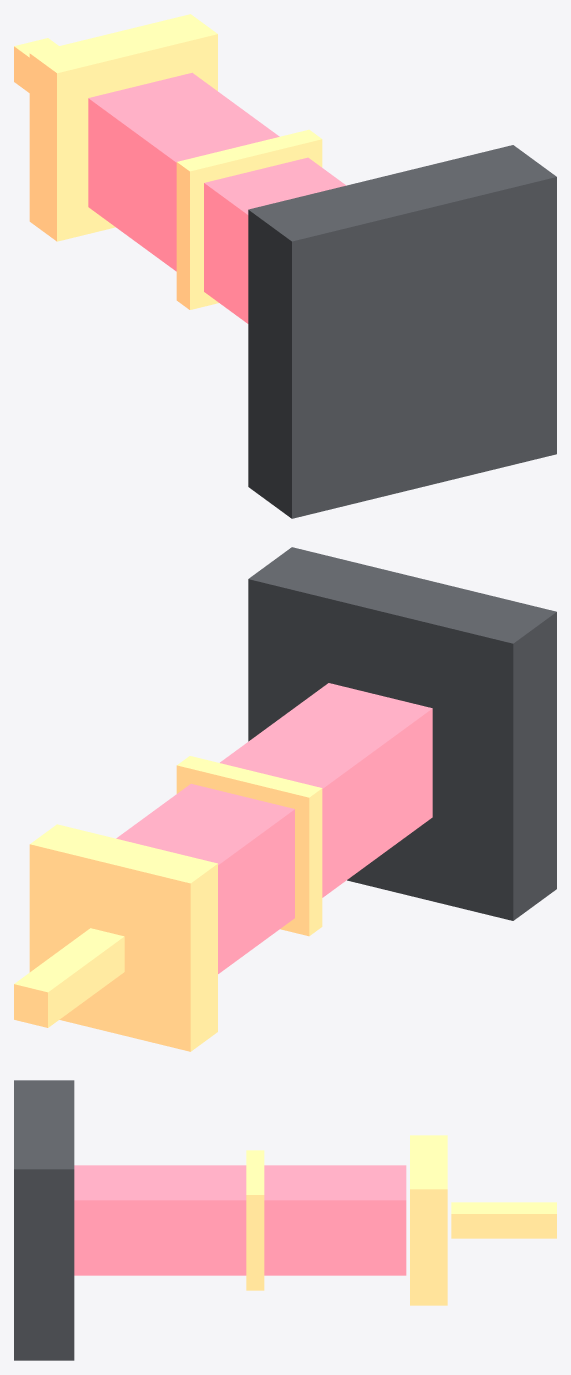
File: interact_hazard_pylon.glb
3 renders of one model, top to bottom at view 1: azimuth 30°, elevation 25°; view 2: azimuth 150°, elevation 25°; view 3: azimuth 270°, elevation 25°, orthographic. The views are drawn at different scales.
Visible parts, largest first — view 1: interact_hazard_pylon; view 2: interact_hazard_pylon; view 3: interact_hazard_pylon.
Boxes of the visible parts, box(x1,y1,x2,y2) form: interact_hazard_pylon: box(14, 14, 556, 518); interact_hazard_pylon: box(14, 547, 556, 1051); interact_hazard_pylon: box(14, 1080, 556, 1360).
Size of the model in its own units: 1.4 by 1.4 by 3.6.
